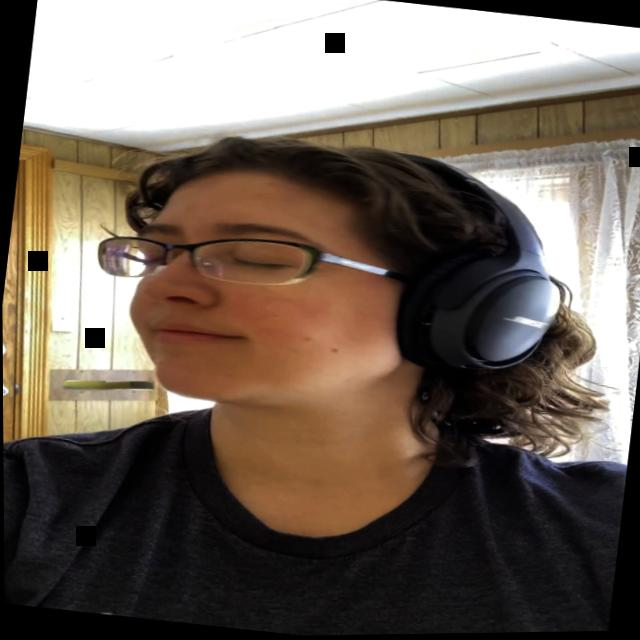NO-Mask: (113, 157, 419, 426)
